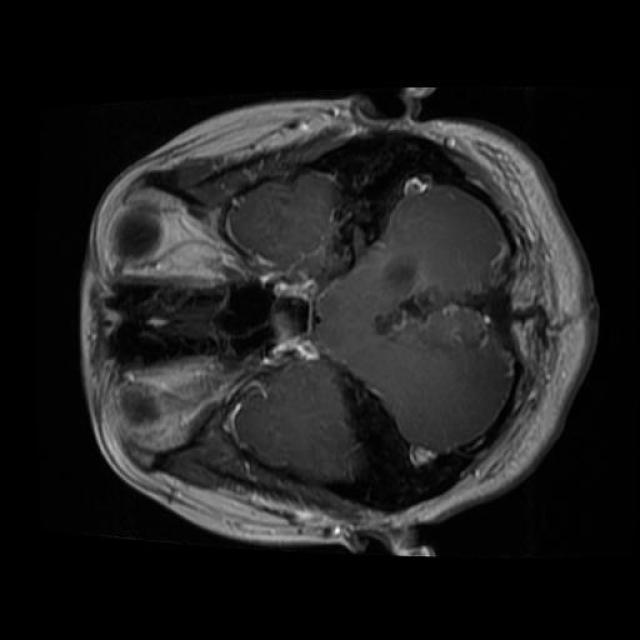Glioma: (374, 255, 513, 373)
